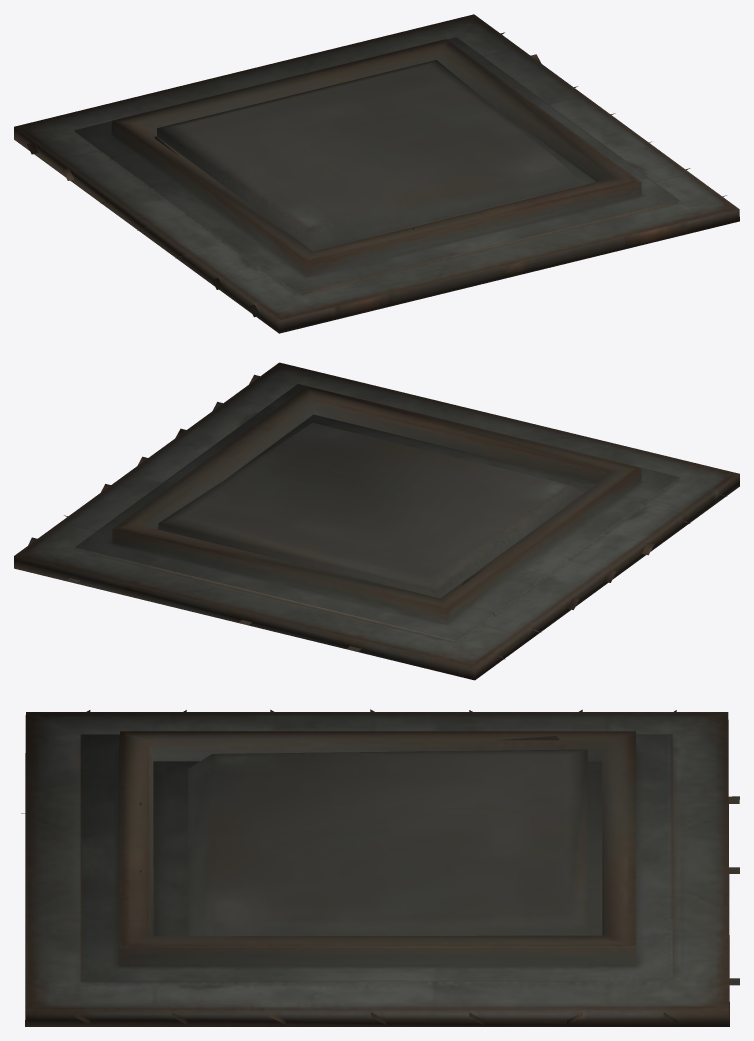
The picture shows the model from 3 angles, top to bottom: view 1: azimuth 30°, elevation 25°; view 2: azimuth 150°, elevation 25°; view 3: azimuth 270°, elevation 25°; orthographic projection. The views are drawn at different scales.
Size of the model in its own units: 4 by 0.3 by 4.
Materials: 1 (1 with a texture image).
